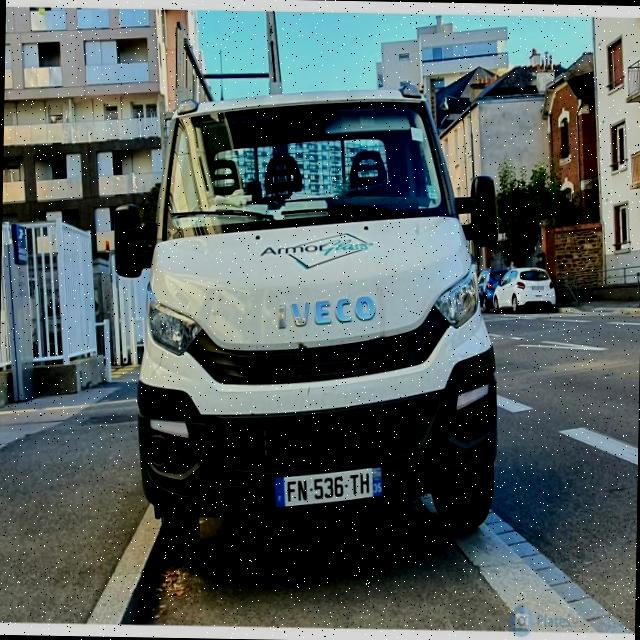EU: (268, 467, 383, 509)
France: (272, 475, 284, 507)
